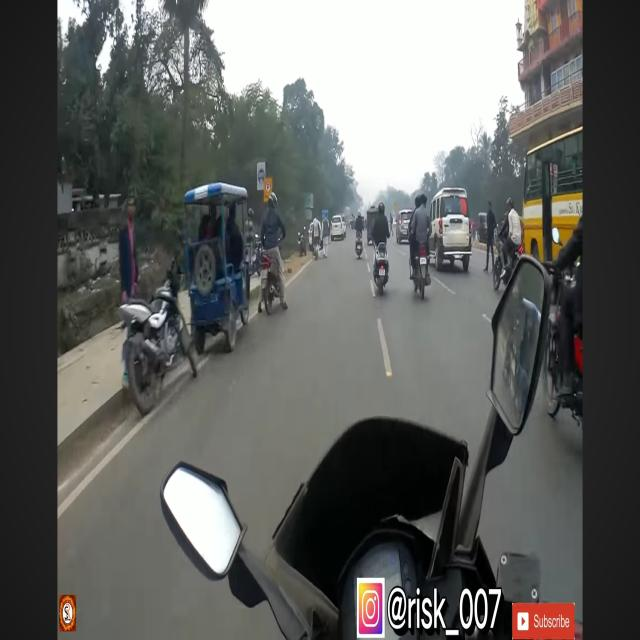bike: (363, 200, 403, 299), (410, 189, 439, 320)
